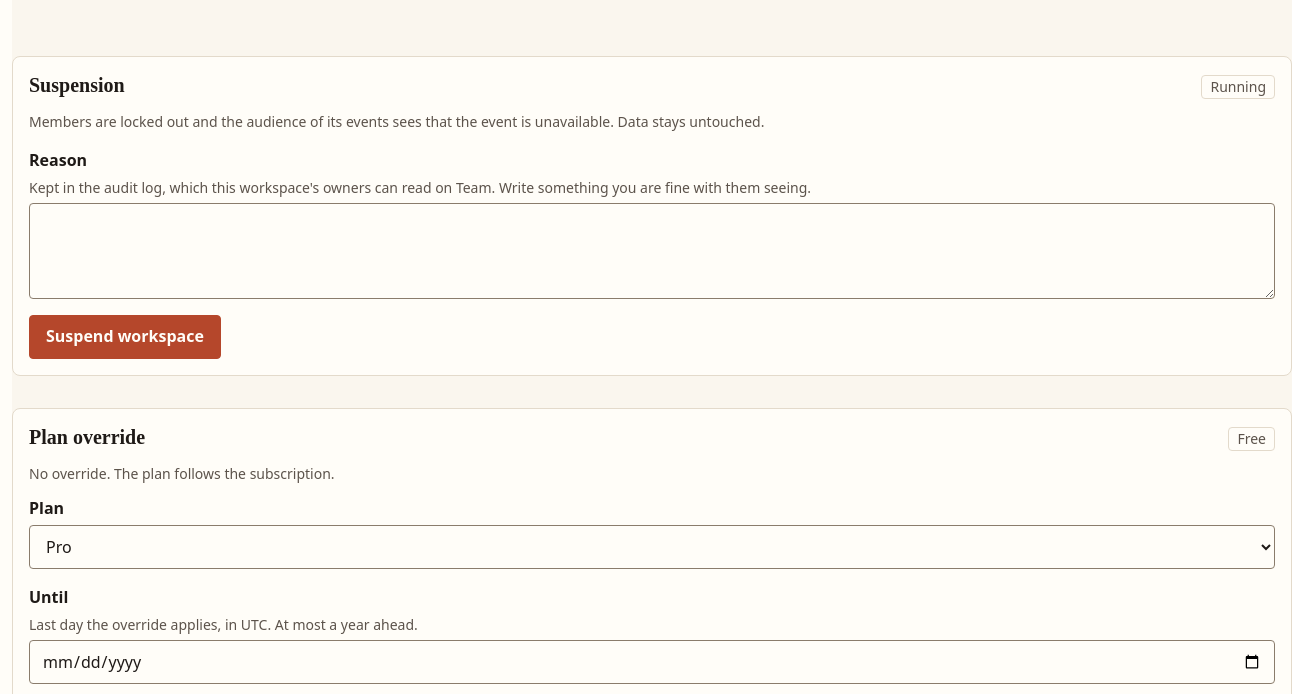
OpsWorkspaceManager › shows the server's message when the reason is missing
Click the button "Suspend workspace".
click(125, 337)  # box [29, 315, 221, 359]
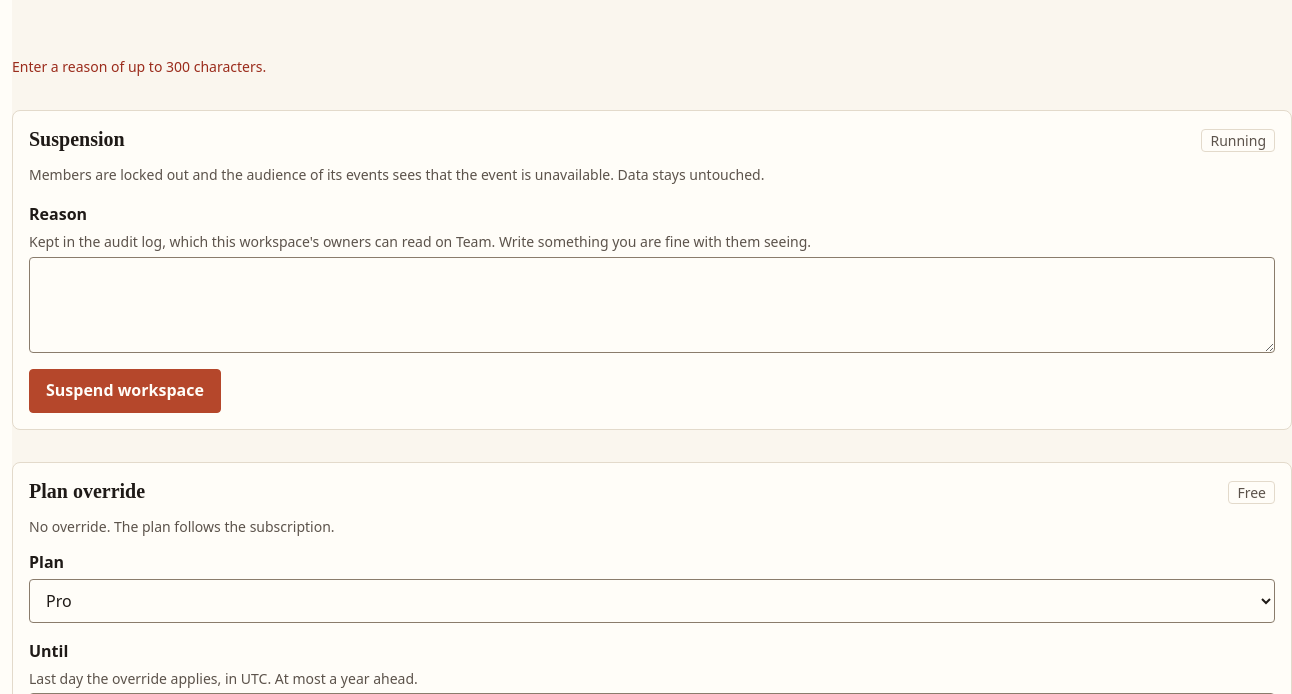
Check: the message "Enter a reason of up to 300 characters." is shown, box [12, 57, 266, 76]
